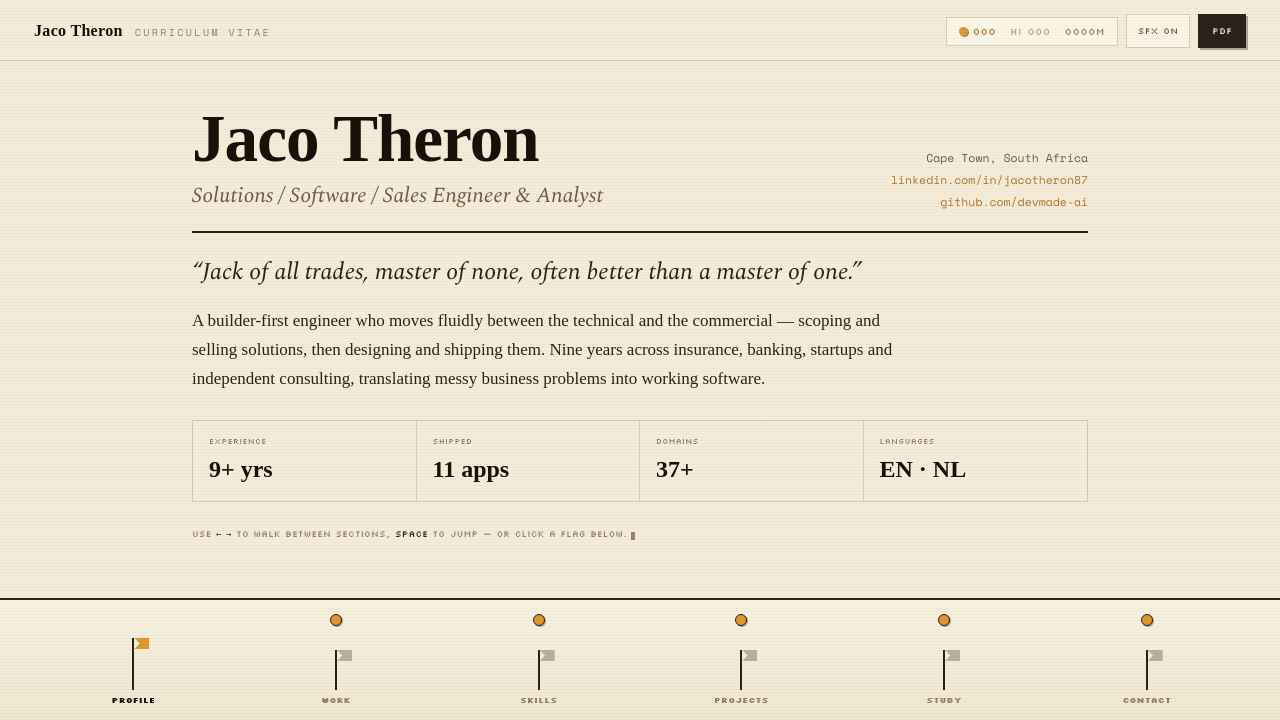
LivingCv › toggles the sound label
The width and height of the screenshot is (1280, 720).
Click the button with aria-label "Toggle sound effects" at (1158, 31), box [1126, 14, 1190, 48]
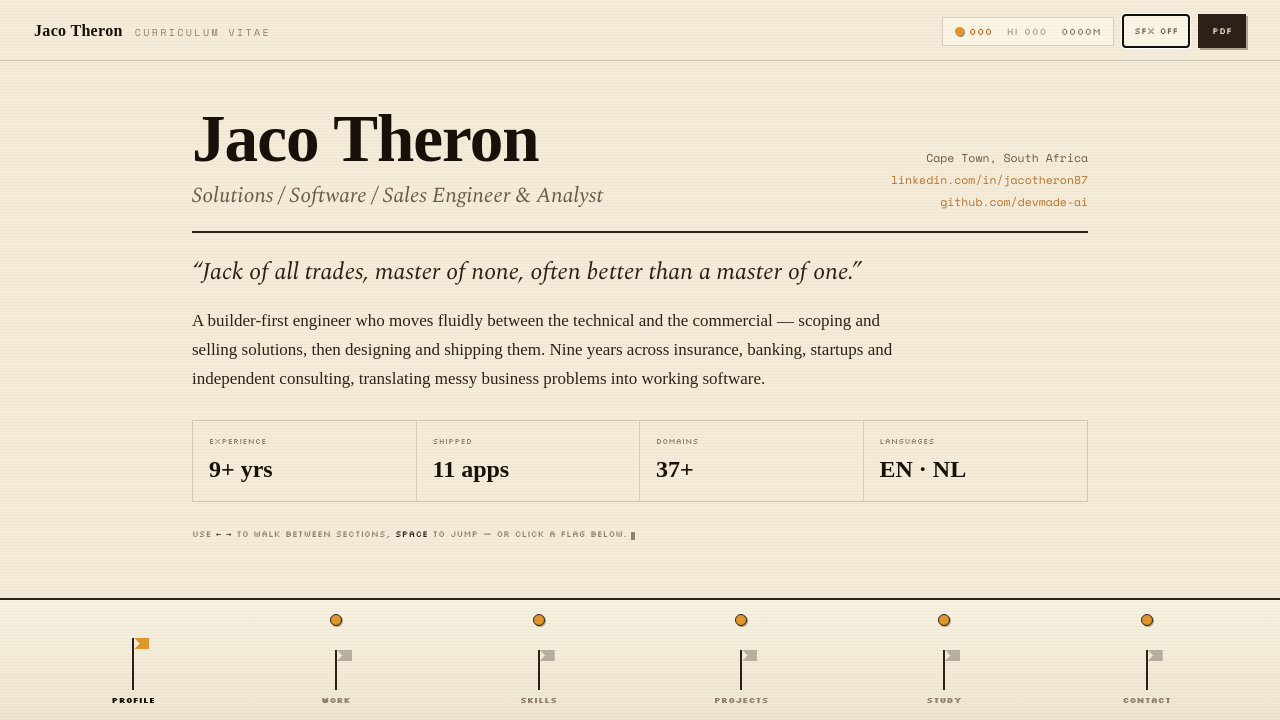
Expected: the button "SFX OFF" is shown, [1122, 14, 1190, 48]
